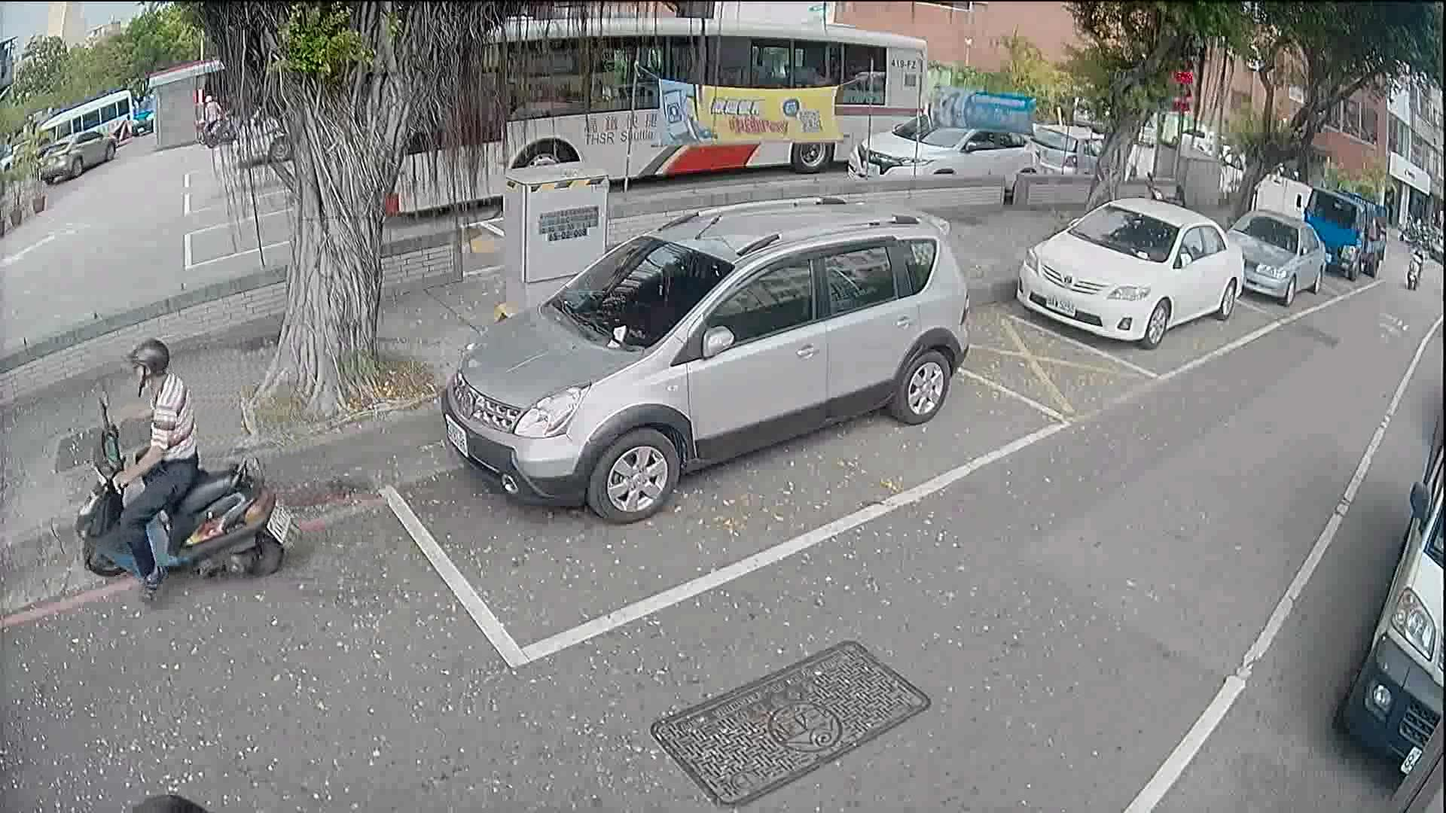person: (106, 336, 204, 604), (122, 788, 212, 811), (201, 92, 224, 145), (1408, 230, 1428, 263)
